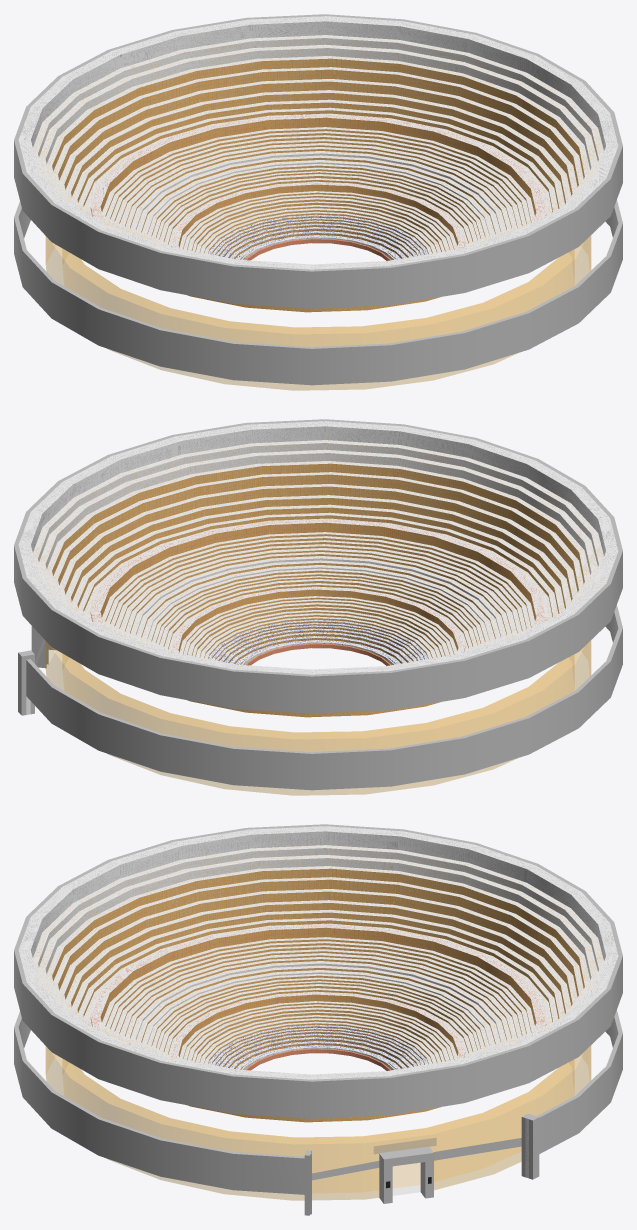
The model's file is plaza.dae.
The picture shows the model from 3 angles, top to bottom: view 1: azimuth 30°, elevation 25°; view 2: azimuth 150°, elevation 25°; view 3: azimuth 270°, elevation 25°; orthographic projection.
Visible parts, largest first — view 1: ID687, ID709, ID747, ID761, ID666, ID653, ID637, ID629, ID605, ID621, ID589, ID525 (+61 smaller); view 2: ID687, ID709, ID747, ID761, ID666, ID653, ID637, ID629, ID605, ID621, ID589, ID525 (+62 smaller); view 3: ID687, ID747, ID761, ID709, ID666, ID653, ID637, ID629, ID605, ID621, ID589, ID525 (+60 smaller).
Part boxes in pixels (x1=…): ID687: x1=14, y1=14, x2=622, y2=308; ID709: x1=14, y1=218, x2=622, y2=385; ID747: x1=46, y1=236, x2=590, y2=390; ID761: x1=63, y1=249, x2=573, y2=346; ID666: x1=18, y1=16, x2=618, y2=269; ID653: x1=31, y1=21, x2=605, y2=150; ID637: x1=38, y1=38, x2=598, y2=186; ID629: x1=45, y1=48, x2=591, y2=192; ID605: x1=58, y1=69, x2=578, y2=187; ID621: x1=52, y1=58, x2=584, y2=178; ID589: x1=64, y1=81, x2=572, y2=195; ID525: x1=100, y1=117, x2=536, y2=215; ID687: x1=14, y1=419, x2=622, y2=713; ID709: x1=26, y1=629, x2=622, y2=790; ID747: x1=46, y1=641, x2=590, y2=795; ID761: x1=63, y1=654, x2=573, y2=751; ID666: x1=18, y1=421, x2=618, y2=674; ID653: x1=31, y1=426, x2=605, y2=555; ID637: x1=38, y1=443, x2=598, y2=591; ID629: x1=45, y1=453, x2=591, y2=597; ID605: x1=58, y1=474, x2=578, y2=592; ID621: x1=52, y1=463, x2=584, y2=583; ID589: x1=64, y1=486, x2=572, y2=600; ID525: x1=100, y1=522, x2=536, y2=620; ID687: x1=14, y1=824, x2=622, y2=1118; ID747: x1=46, y1=1046, x2=590, y2=1200; ID761: x1=63, y1=1059, x2=573, y2=1192; ID709: x1=14, y1=1028, x2=622, y2=1194; ID666: x1=18, y1=826, x2=618, y2=1079; ID653: x1=31, y1=831, x2=605, y2=960; ID637: x1=38, y1=848, x2=598, y2=997; ID629: x1=45, y1=858, x2=591, y2=1002; ID605: x1=58, y1=879, x2=578, y2=997; ID621: x1=52, y1=868, x2=584, y2=988; ID589: x1=64, y1=891, x2=572, y2=1005; ID525: x1=100, y1=927, x2=536, y2=1025.
Size of the model in its own units: 332 by 79.24 by 330.
